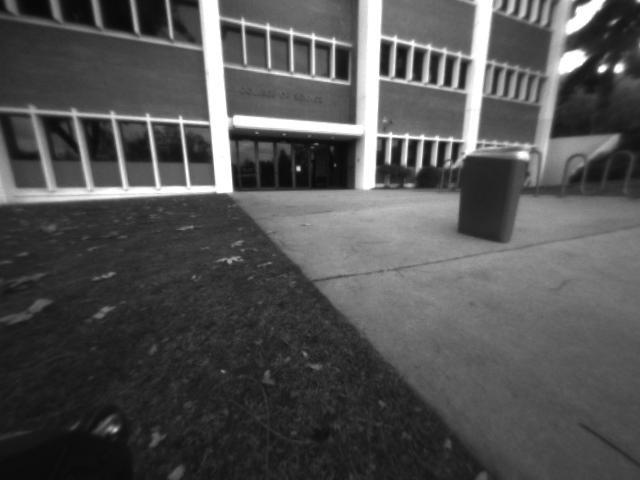trashcan: (452, 142, 541, 247)
